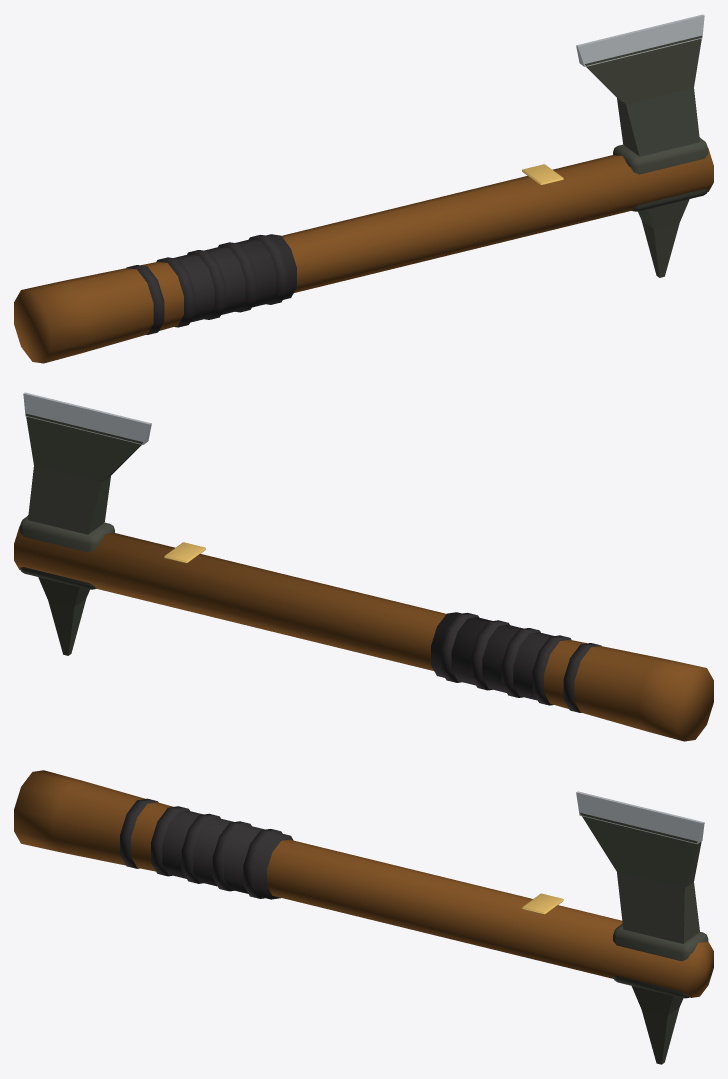
Rendered from item_tomahawk.glb.
The picture shows the model from 3 angles, top to bottom: view 1: azimuth 30°, elevation 25°; view 2: azimuth 150°, elevation 25°; view 3: azimuth 330°, elevation 25°; orthographic projection.
Parts seen in each view (by area): view 1: haft, blade, cord, edge, eye, spike, cord_turn_4, cord_turn_5, cord_turn_6, cord_turn_3, cord_turn_2; view 2: haft, blade, cord, edge, eye, spike, cord_turn_4, cord_turn_5, cord_turn_6, cord_turn_3, cord_turn_2; view 3: haft, blade, cord, edge, eye, spike, cord_turn_4, cord_turn_3, cord_turn_5, cord_turn_6, cord_turn_2, tag.
Part boxes in pixels (left/top/right/bottom): haft: left=14, top=137, right=713, bottom=363; blade: left=585, top=35, right=702, bottom=156; cord: left=174, top=234, right=296, bottom=322; edge: left=576, top=14, right=704, bottom=66; eye: left=613, top=138, right=708, bottom=211; spike: left=638, top=199, right=689, bottom=277; cord_turn_4: left=187, top=250, right=226, bottom=319; cord_turn_5: left=218, top=242, right=256, bottom=312; cord_turn_6: left=249, top=234, right=287, bottom=304; cord_turn_3: left=156, top=257, right=195, bottom=327; cord_turn_2: left=126, top=265, right=164, bottom=334; haft: left=14, top=515, right=713, bottom=741; blade: left=25, top=413, right=142, bottom=534; cord: left=431, top=612, right=553, bottom=700; edge: left=23, top=392, right=151, bottom=444; eye: left=19, top=516, right=114, bottom=589; spike: left=38, top=577, right=89, bottom=655; cord_turn_4: left=501, top=628, right=540, bottom=697; cord_turn_5: left=471, top=620, right=509, bottom=690; cord_turn_6: left=440, top=612, right=478, bottom=682; cord_turn_3: left=532, top=635, right=571, bottom=705; cord_turn_2: left=563, top=643, right=601, bottom=712; haft: left=14, top=770, right=713, bottom=997; blade: left=580, top=813, right=701, bottom=943; cord: left=162, top=810, right=293, bottom=899; edge: left=576, top=791, right=704, bottom=844; eye: left=613, top=924, right=708, bottom=998; spike: left=631, top=986, right=683, bottom=1064; cord_turn_4: left=181, top=813, right=220, bottom=883; cord_turn_3: left=151, top=806, right=189, bottom=876; cord_turn_5: left=212, top=821, right=251, bottom=891; cord_turn_6: left=243, top=829, right=282, bottom=898; cord_turn_2: left=120, top=798, right=158, bottom=868; tag: left=522, top=893, right=563, bottom=914.
Size of the model in its own units: 0.515 by 0.183 by 0.0488.
